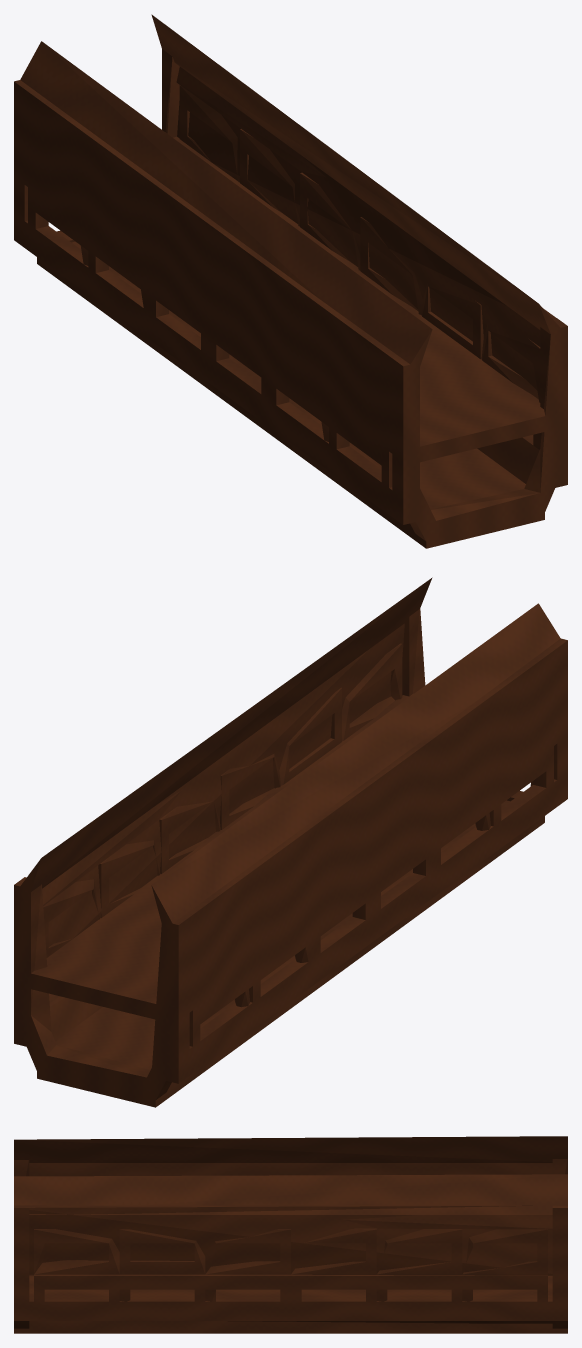
Rendered from svd_guard.glb.
3 views of the same model, one above another, from view 1: azimuth 30°, elevation 25°; view 2: azimuth 150°, elevation 25°; view 3: azimuth 270°, elevation 25° (orthographic). The views are drawn at different scales.
Parts seen in each view (by area): view 1: handguard__svd_guard_LOD1_RAID_Secondary_Original_laminate, handguard__svd_guard_LOD0_RAID_Secondary_Original_laminate; view 2: handguard__svd_guard_LOD1_RAID_Secondary_Original_laminate, handguard__svd_guard_LOD0_RAID_Secondary_Original_laminate; view 3: handguard__svd_guard_LOD1_RAID_Secondary_Original_laminate, handguard__svd_guard_LOD0_RAID_Secondary_Original_laminate.
Part boxes in pixels (x1=…): handguard__svd_guard_LOD1_RAID_Secondary_Original_laminate: x1=14, y1=14, x2=567, y2=534; handguard__svd_guard_LOD0_RAID_Secondary_Original_laminate: x1=14, y1=49, x2=567, y2=548; handguard__svd_guard_LOD1_RAID_Secondary_Original_laminate: x1=14, y1=577, x2=567, y2=1104; handguard__svd_guard_LOD0_RAID_Secondary_Original_laminate: x1=14, y1=608, x2=567, y2=1107; handguard__svd_guard_LOD1_RAID_Secondary_Original_laminate: x1=14, y1=1136, x2=567, y2=1323; handguard__svd_guard_LOD0_RAID_Secondary_Original_laminate: x1=14, y1=1159, x2=567, y2=1333.
Size of the model in its own units: 0.088 by 0.1132 by 0.36.
Materials: 1 (1 with a texture image).
